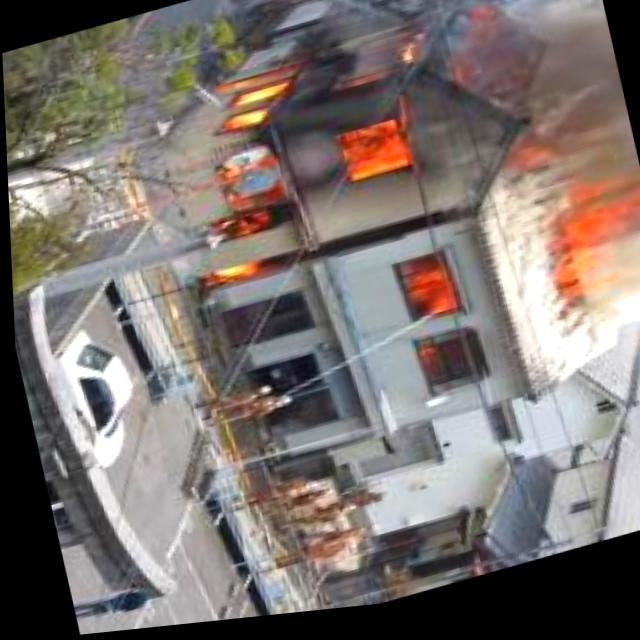fire: (154, 23, 450, 299), (531, 155, 640, 331), (388, 254, 464, 394)
